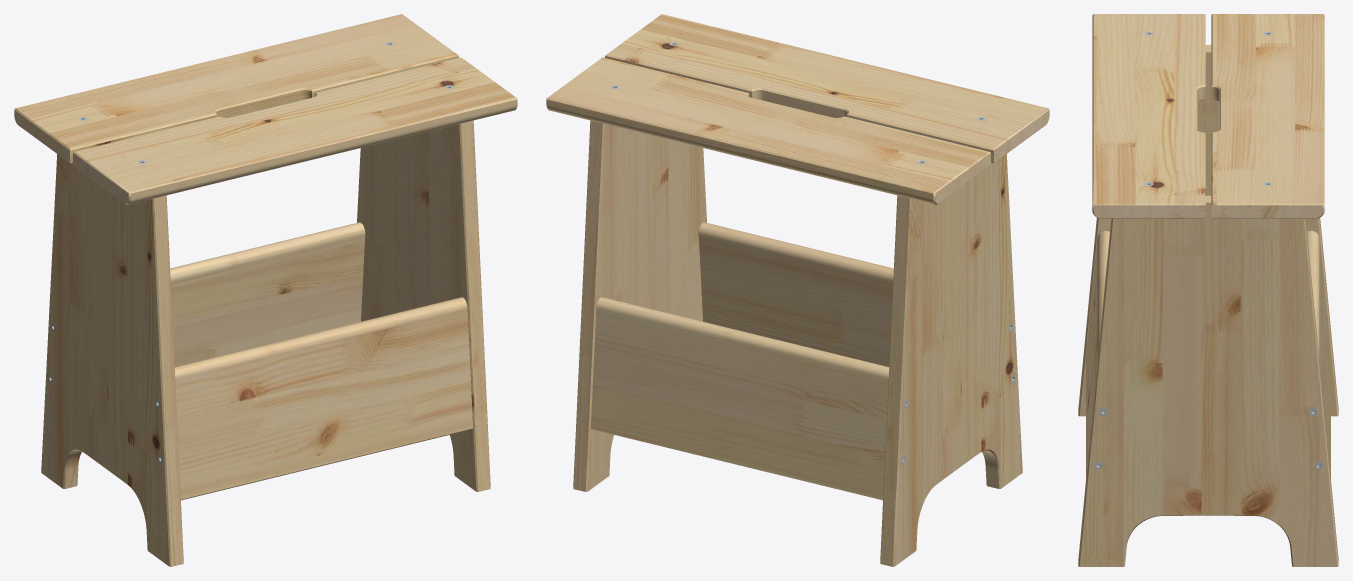
File: 03 - PERJOHAN - 收納椅凳, 松木 IKEA 線上購物.glb
3 renders of one model, left to right at view 1: azimuth 30°, elevation 25°; view 2: azimuth 150°, elevation 25°; view 3: azimuth 270°, elevation 25°, orthographic.
Visible parts, largest first — view 1: Mesh_0; view 2: Mesh_0; view 3: Mesh_0.
Boxes of the visible parts, x1,y1,x2,y2 form: Mesh_0: [14, 14, 517, 566]; Mesh_0: [546, 14, 1049, 566]; Mesh_0: [1078, 14, 1338, 566].
Bounding box in the file's own units: 0.485 × 0.45 × 0.28.
Materials: 1 (1 with a texture image).
